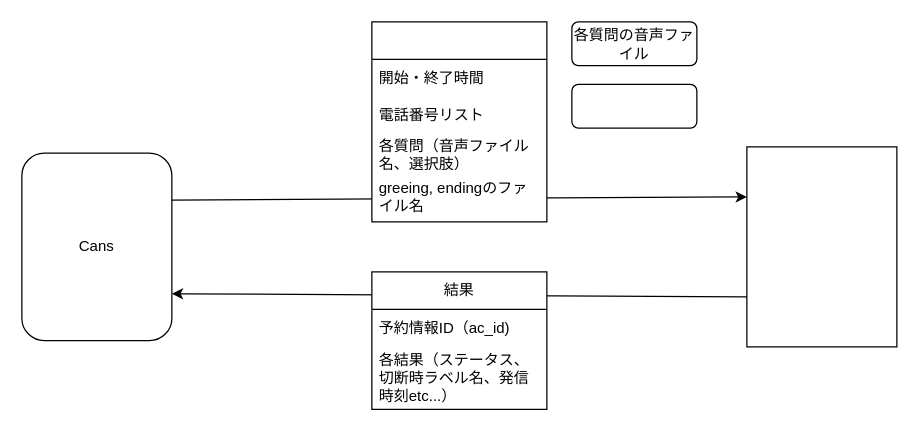
Image size: 919x431. Some labels were removed from this diagram. The shapes that lost their labels are listed below. From the top down, each one's box as (x1, y1, x2, y2) in pixels, then its label:
(371, 21, 547, 222): 予約情報
(746, 146, 897, 347): PSE
